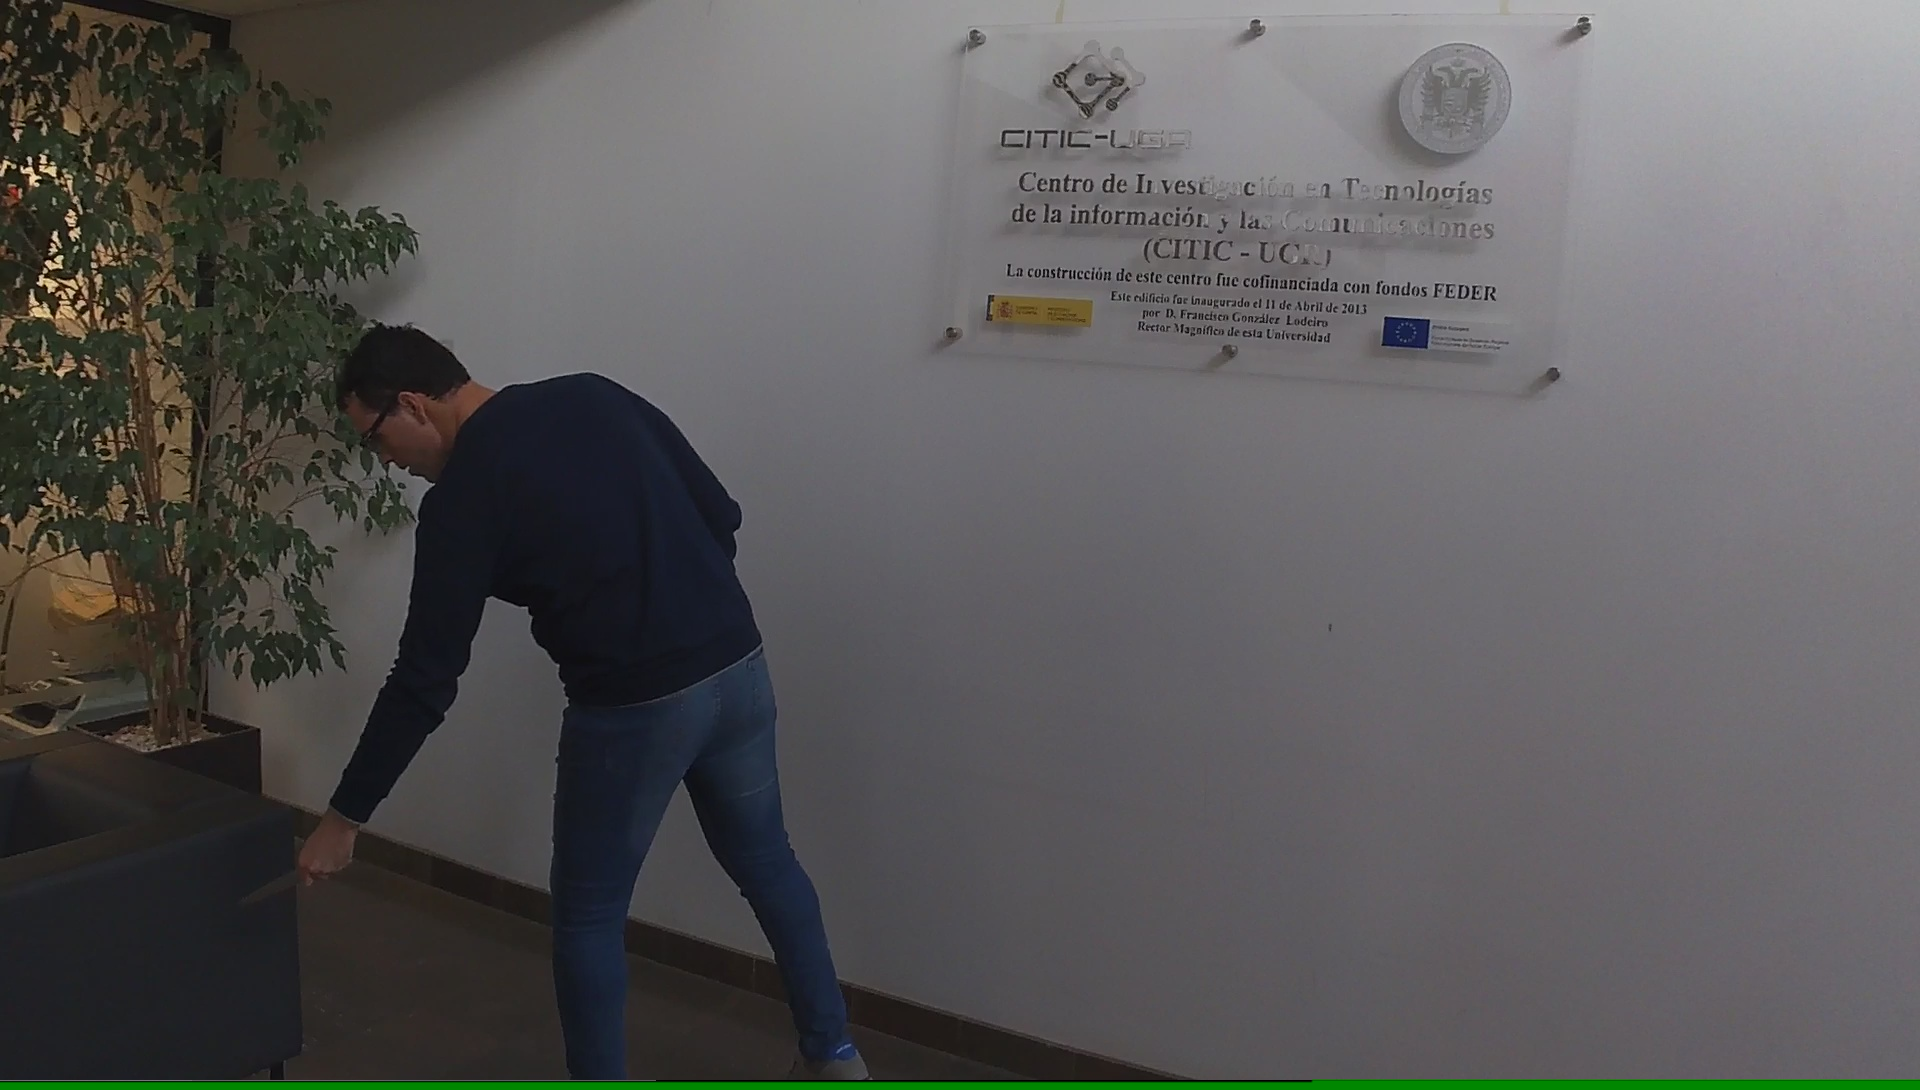knife: (227, 838, 348, 917)
